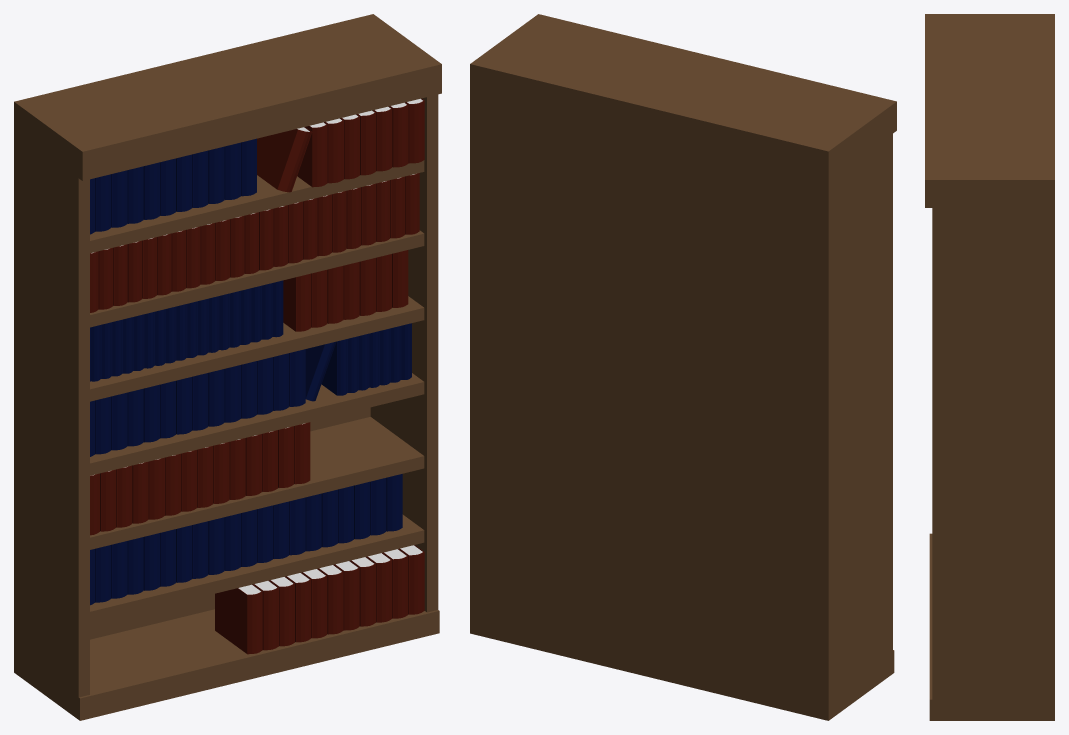
The model's file is Bookshelf_003.fbx.
The picture shows the model from 3 angles, left to right: view 1: azimuth 30°, elevation 25°; view 2: azimuth 150°, elevation 25°; view 3: azimuth 270°, elevation 25°; orthographic projection. The views are drawn at different scales.
Visible parts, largest first — view 1: bookshelf_003; view 2: bookshelf_003; view 3: bookshelf_003.
Boxes of the visible parts, bbox=[...] form: bookshelf_003: bbox=[14, 14, 441, 720]; bookshelf_003: bbox=[470, 14, 896, 720]; bookshelf_003: bbox=[925, 14, 1054, 720].
Bounding box in the file's own units: 200 × 304 × 66.07.
